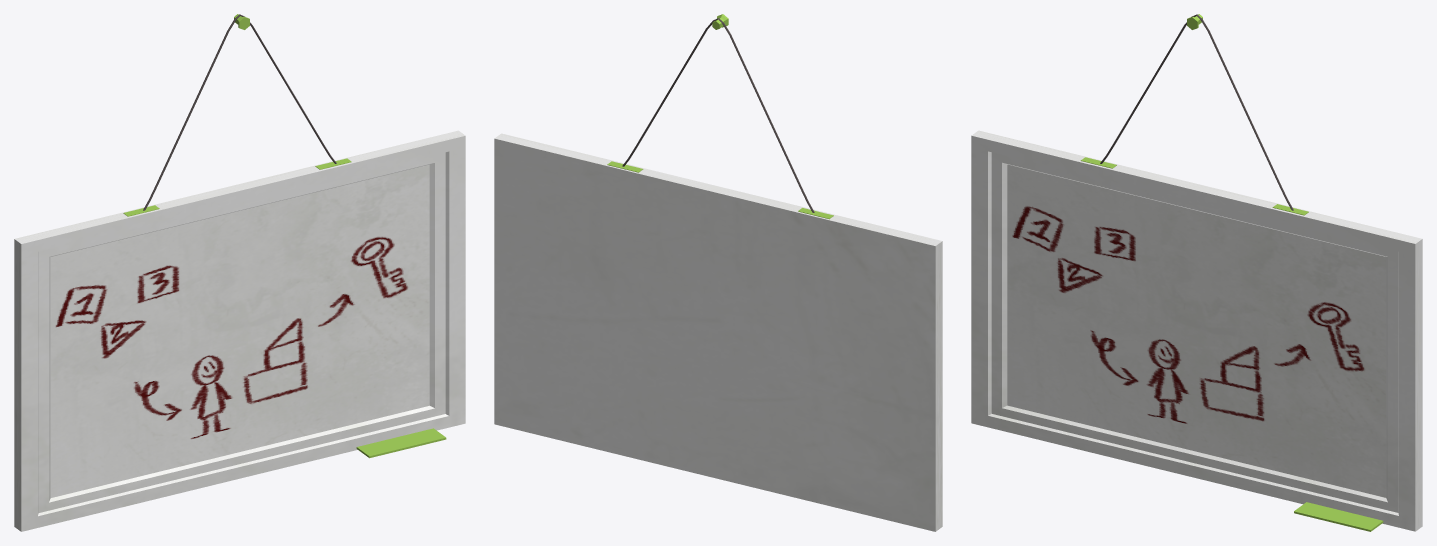
The model's file is Lvl3_whiteboard02.fbx.
3 views of the same model, side by side, from view 1: azimuth 30°, elevation 25°; view 2: azimuth 150°, elevation 25°; view 3: azimuth 330°, elevation 25° (orthographic).
Visible parts, largest first — view 1: whiteboard, whiteboard_penholder, whiteboard_string; view 2: whiteboard, whiteboard_string; view 3: whiteboard, whiteboard_penholder, whiteboard_string.
Part boxes in pixels (x1,y1,x2,y2): whiteboard: (14, 130, 465, 531); whiteboard_penholder: (356, 428, 446, 458); whiteboard_string: (143, 14, 336, 210); whiteboard: (494, 133, 942, 531); whiteboard_string: (622, 18, 814, 212); whiteboard: (971, 130, 1422, 531); whiteboard_penholder: (1294, 502, 1383, 531); whiteboard_string: (1100, 14, 1293, 210).
Bounding box in the file's own units: 15.92 × 15.8 × 1.23.
3 materials, 1 textured.
